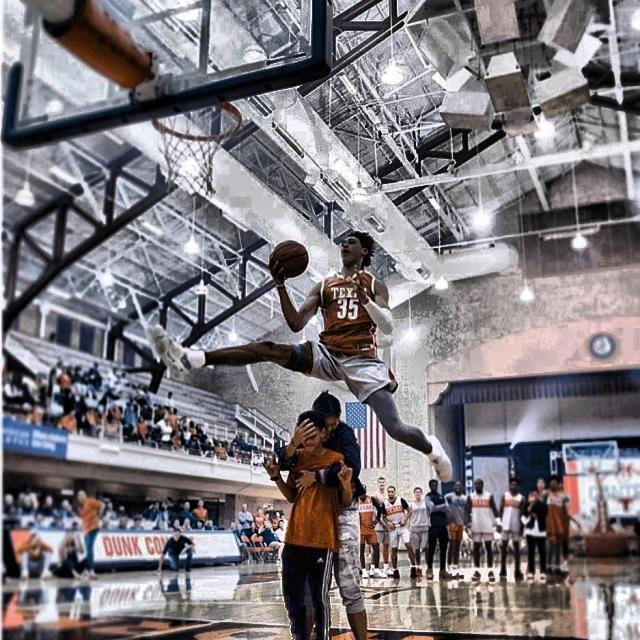board: (154, 232, 454, 481), (273, 240, 308, 278)
rim: (154, 98, 242, 196)
